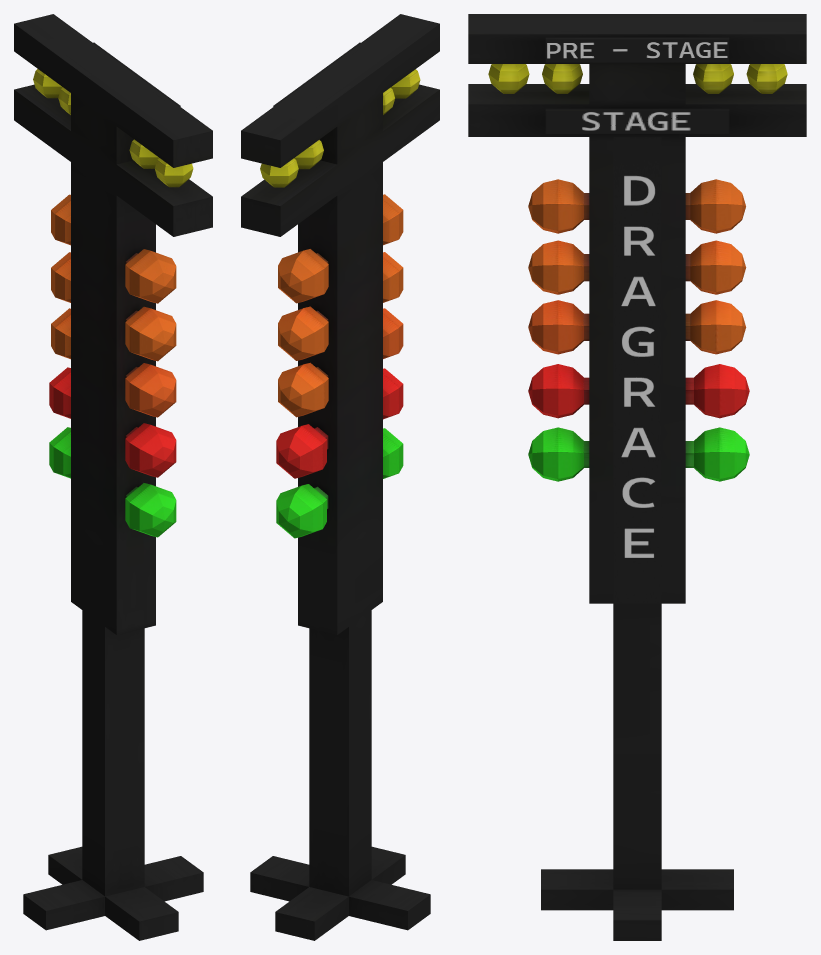
Rendered from dragster_race_christmas_tree.glb.
3 renders of one model, left to right at view 1: azimuth 30°, elevation 25°; view 2: azimuth 150°, elevation 25°; view 3: azimuth 270°, elevation 25°, orthographic. The views are drawn at different scales.
Parts seen in each view (by area): view 1: NFT_0; view 2: NFT_0; view 3: NFT_0.
Part boxes in pixels (<box>): NFT_0: <box>14,14,212,940</box>; NFT_0: <box>241,14,439,940</box>; NFT_0: <box>468,14,806,940</box>.
Size of the model in its own units: 0.4 by 2 by 0.7.
Materials: 1 (1 with a texture image).
